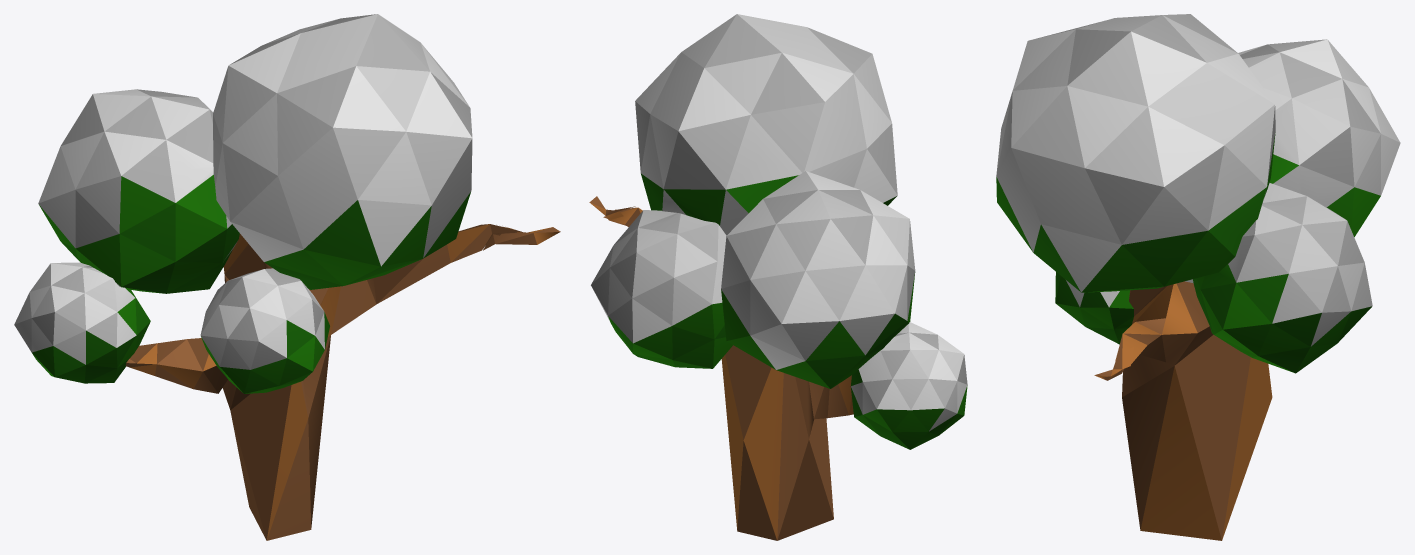
File: tree_bird_breaks.fbx
The picture shows the model from 3 angles, left to right: view 1: azimuth 30°, elevation 25°; view 2: azimuth 150°, elevation 25°; view 3: azimuth 270°, elevation 25°; orthographic projection. The views are drawn at different scales.
Parts seen in each view (by area): view 1: pPlatonic11; view 2: pPlatonic11; view 3: pPlatonic11.
Part boxes in pixels (x1,y1,x2,y2): pPlatonic11: (14, 14, 560, 540); pPlatonic11: (589, 14, 967, 540); pPlatonic11: (996, 14, 1400, 540).
Size of the model in its own units: 301 by 317 by 219.
